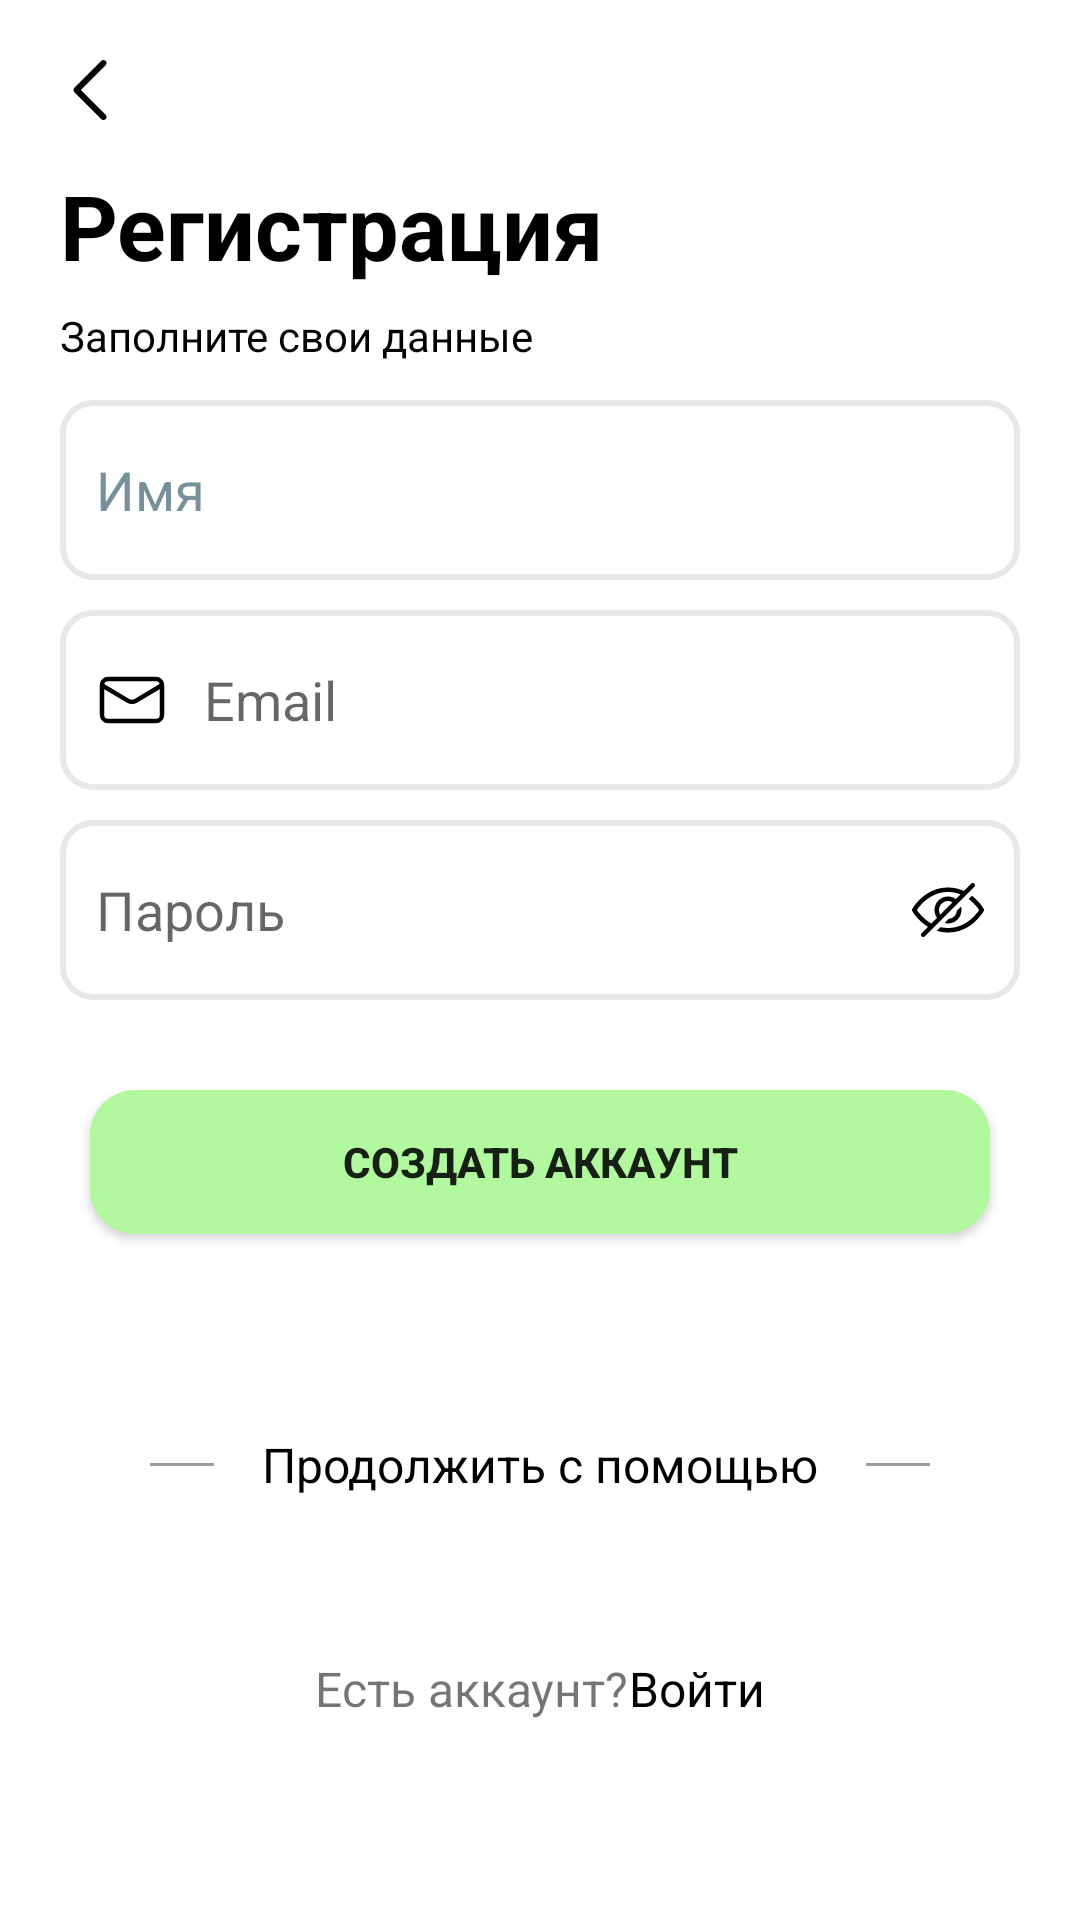

Where to tap for icons on this 1080px×1920px app screen, as [x,y]:
back: [90,90]
